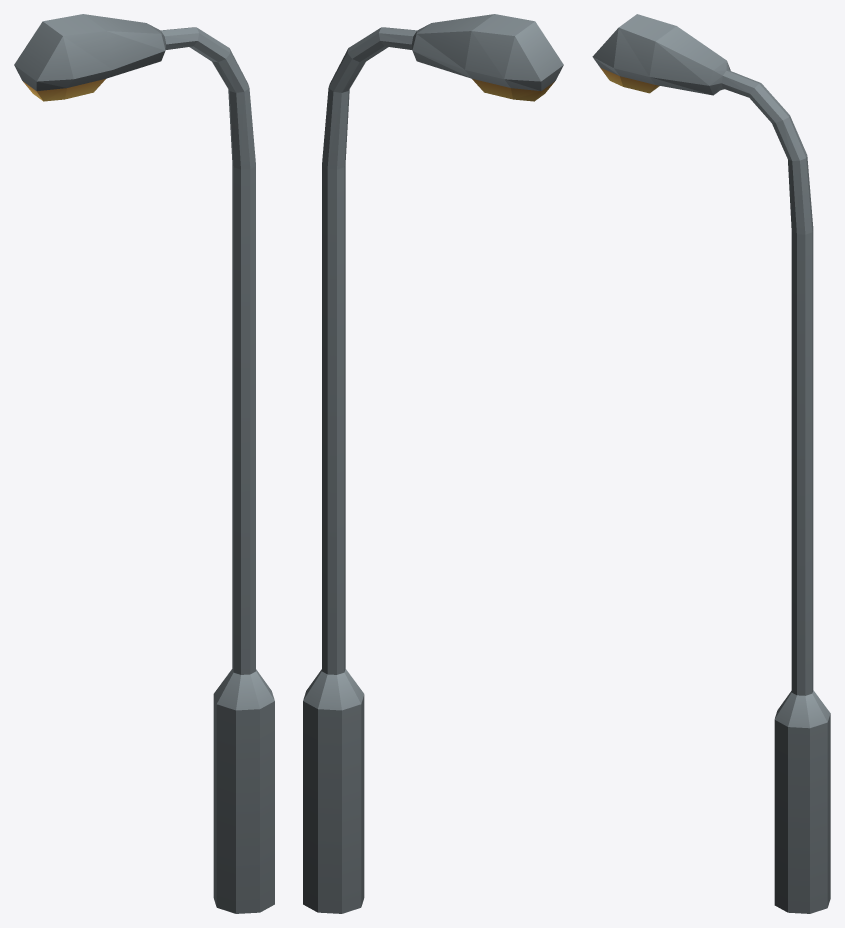
Rendered from streetlight.obj.
3 renders of one model, left to right at view 1: azimuth 30°, elevation 25°; view 2: azimuth 150°, elevation 25°; view 3: azimuth 330°, elevation 25°, orthographic. The views are drawn at different scales.
Size of the model in its own units: 0.2693 by 0.9599 by 0.069.
1 material, 1 textured.
